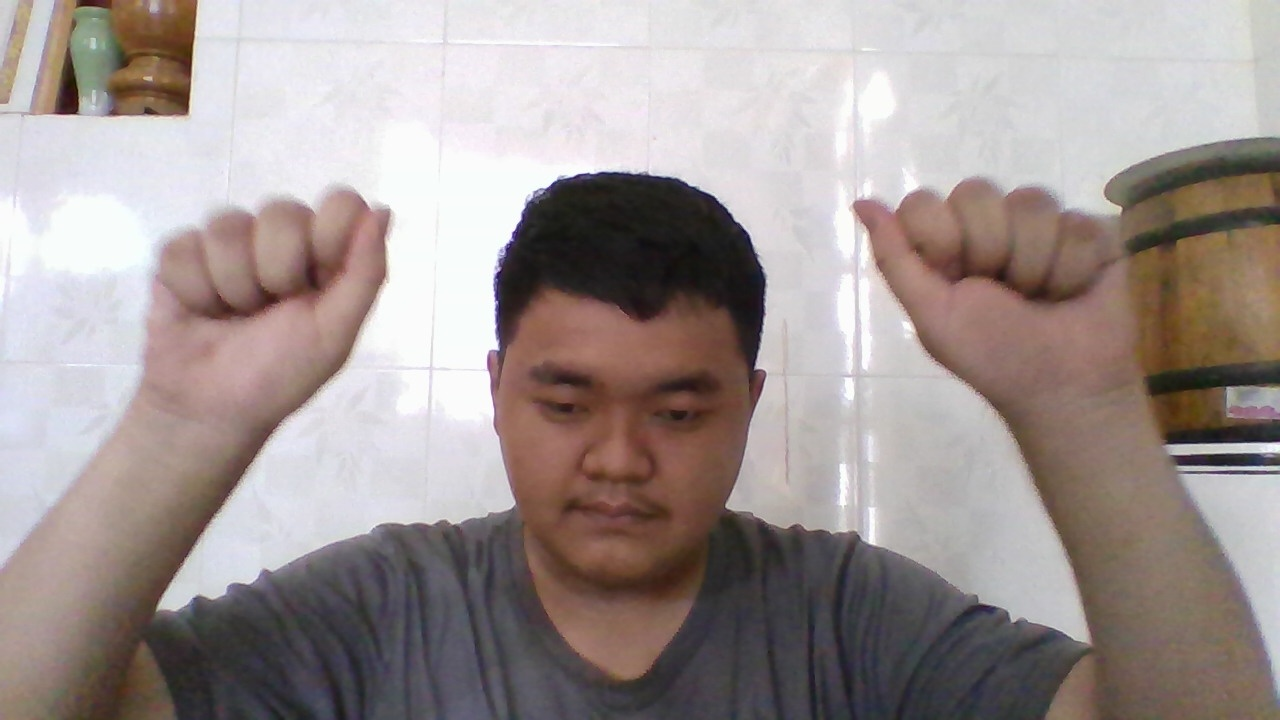A: (850, 170, 1103, 403), (167, 179, 394, 418)
